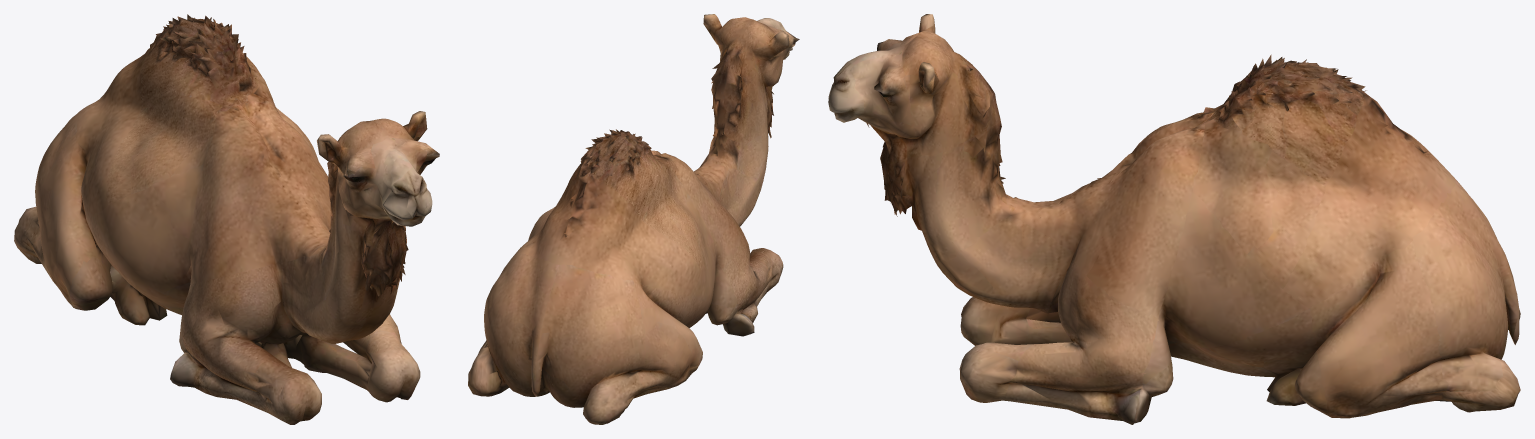
File: decoration-camel.glb
3 views of the same model, side by side, from view 1: azimuth 30°, elevation 25°; view 2: azimuth 150°, elevation 25°; view 3: azimuth 270°, elevation 25° (orthographic). The views are drawn at different scales.
Parts seen in each view (by area): view 1: tripo_node_0e49c945-11cb-4a2e-ad72-2be9303547d5; view 2: tripo_node_0e49c945-11cb-4a2e-ad72-2be9303547d5; view 3: tripo_node_0e49c945-11cb-4a2e-ad72-2be9303547d5.
Boxes of the visible parts, box(x1,y1,x2,y2) form: tripo_node_0e49c945-11cb-4a2e-ad72-2be9303547d5: box(14, 14, 439, 424); tripo_node_0e49c945-11cb-4a2e-ad72-2be9303547d5: box(468, 14, 799, 424); tripo_node_0e49c945-11cb-4a2e-ad72-2be9303547d5: box(828, 14, 1520, 424).
Bounding box in the file's own units: 0.4438 × 0.5421 × 0.9992.
Materials: 1 (1 with a texture image).
